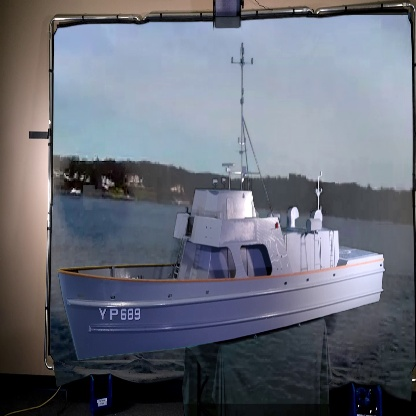YP689: (61, 42, 385, 365)
